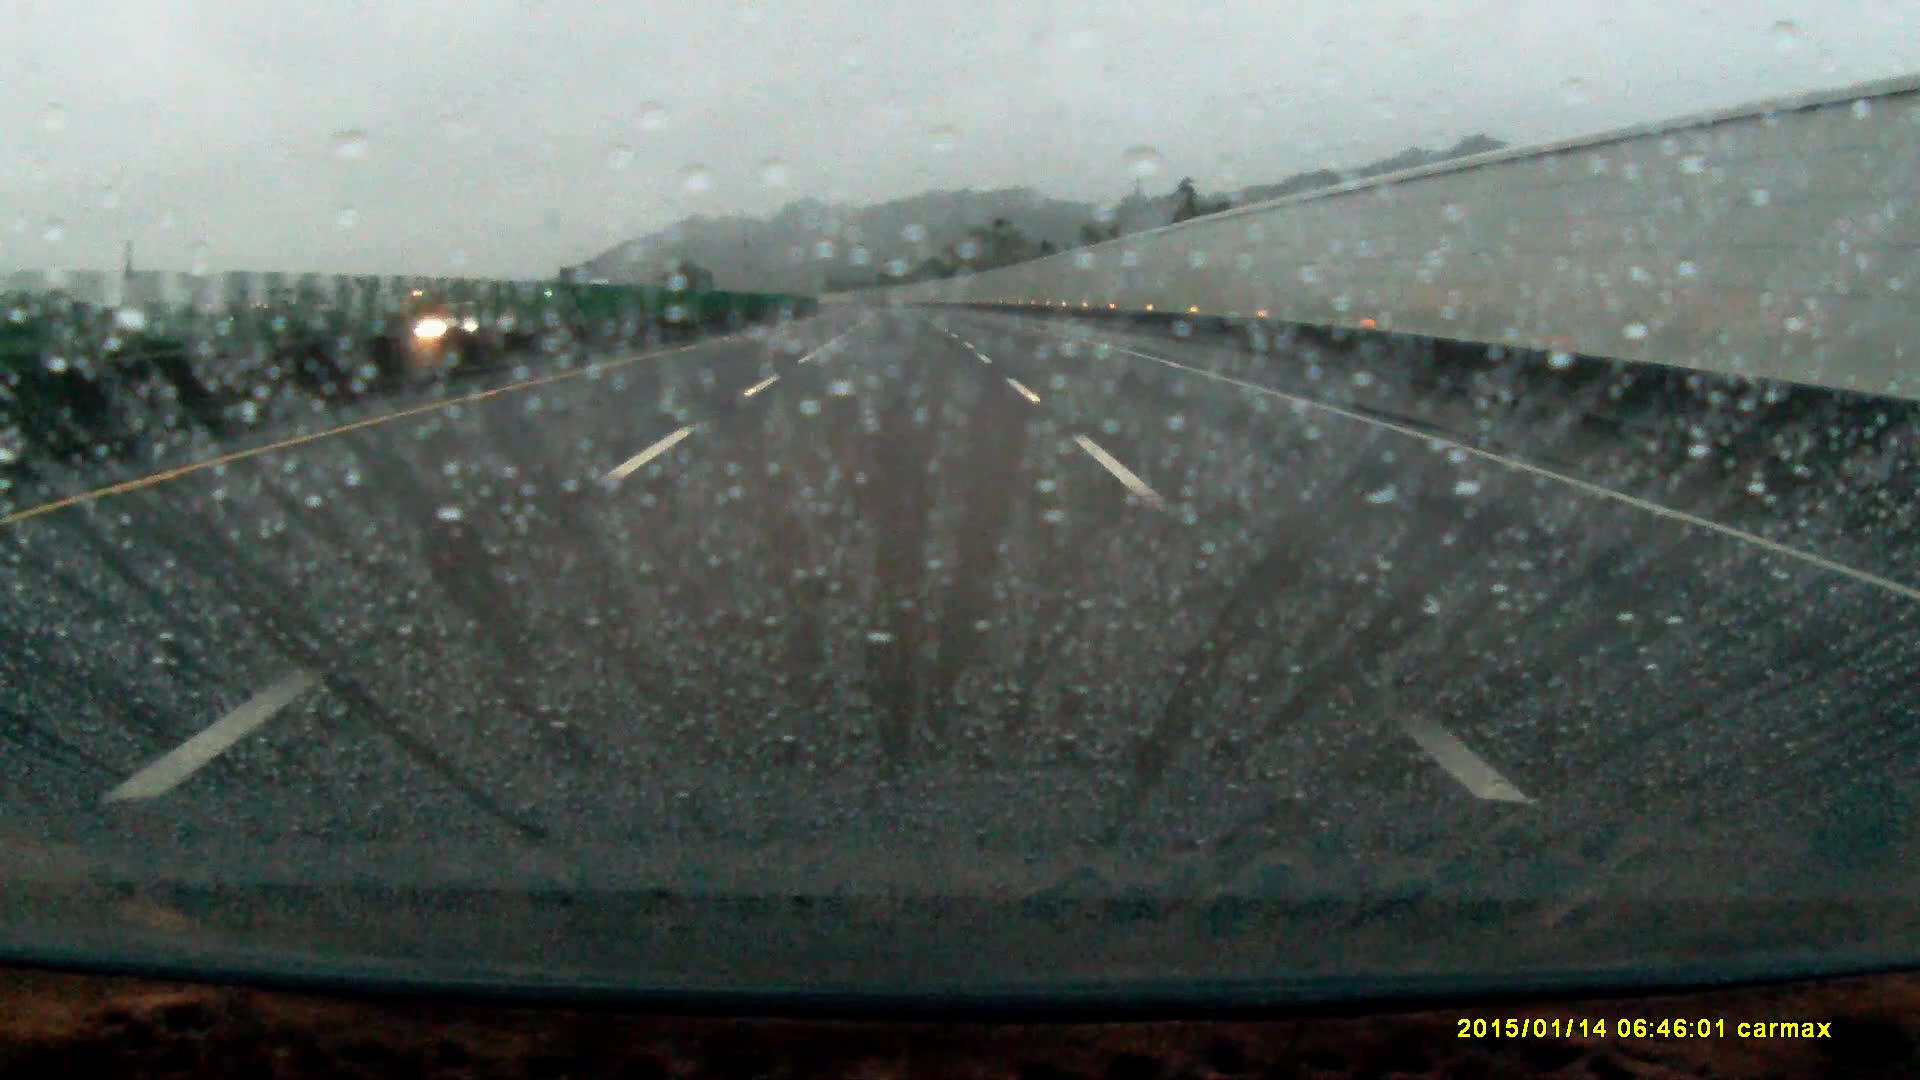vehicle: (388, 295, 487, 344)
